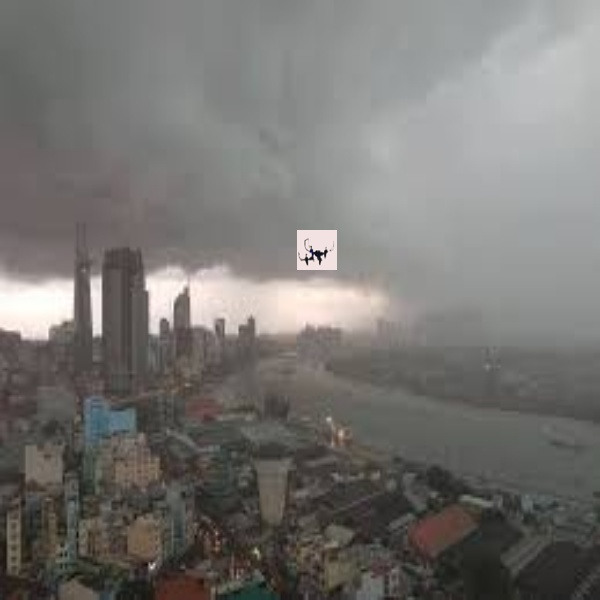drone: (293, 229, 338, 266)
